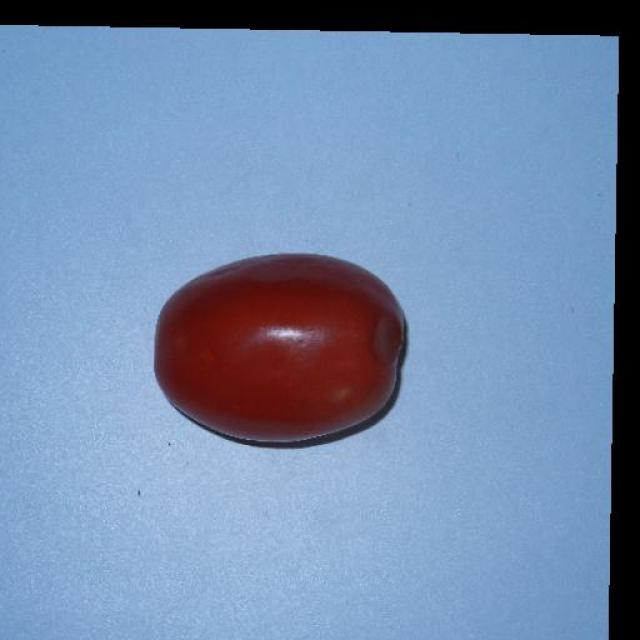Stale_tomato: (140, 239, 432, 464)
